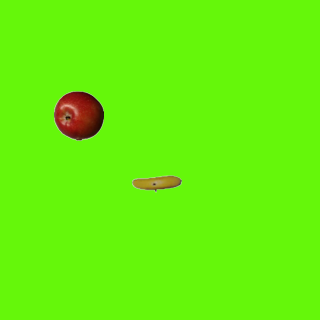Apple Braeburn: (53, 90, 103, 140)
Banana: (131, 158, 181, 208)
